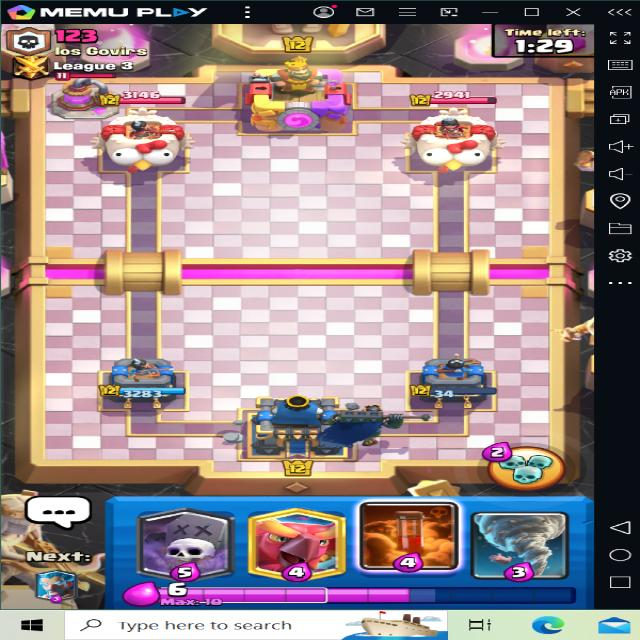elixir-collector: (32, 71, 128, 120)
